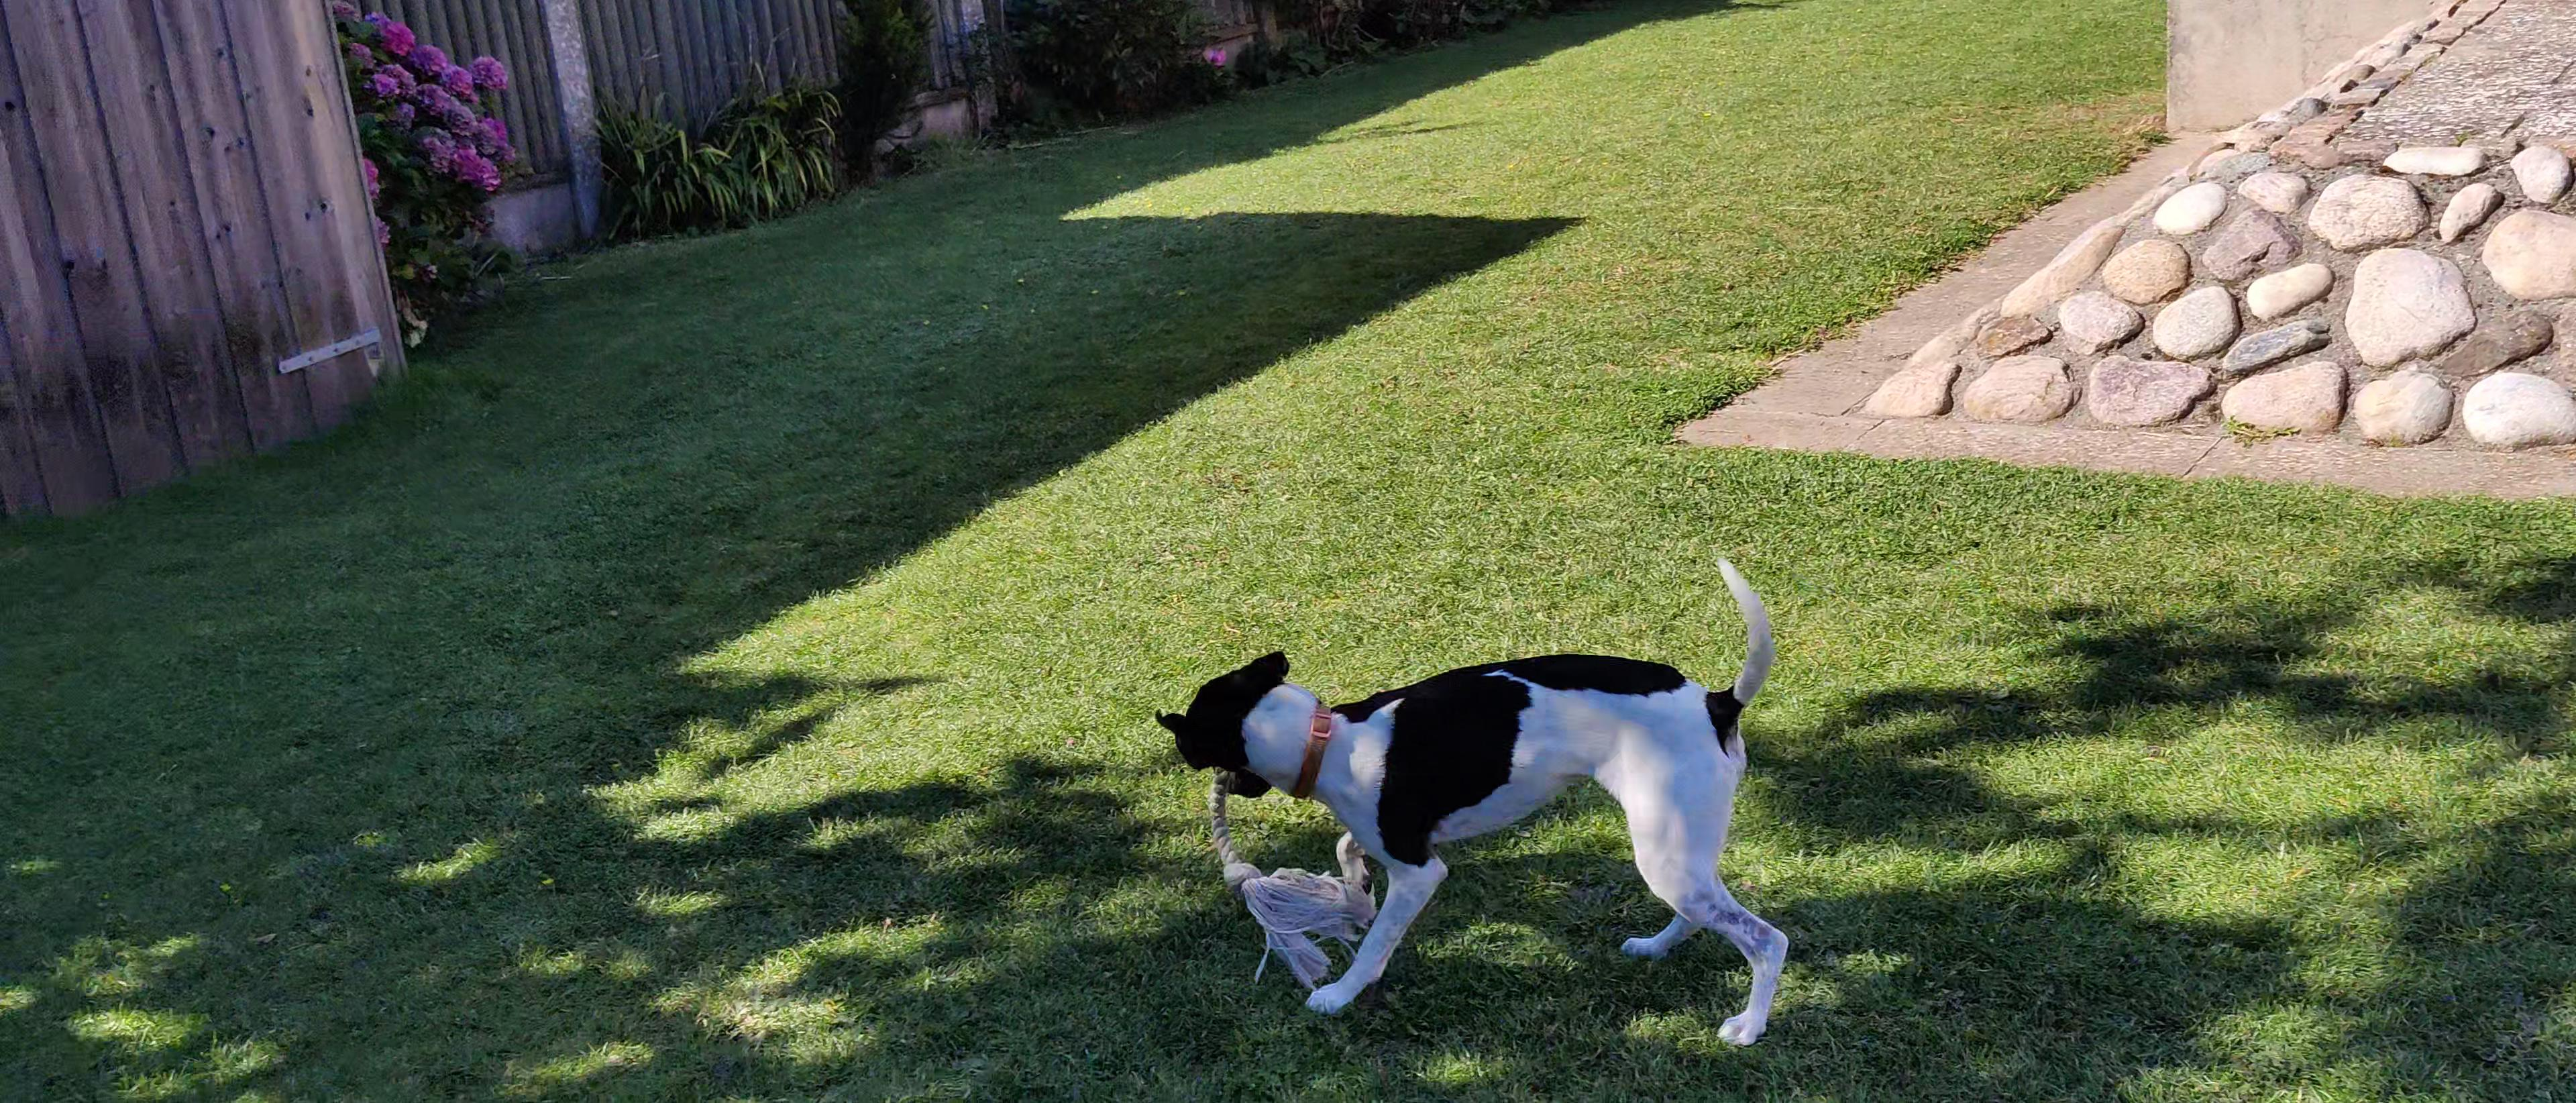Dog: (1160, 544, 1804, 1052)
